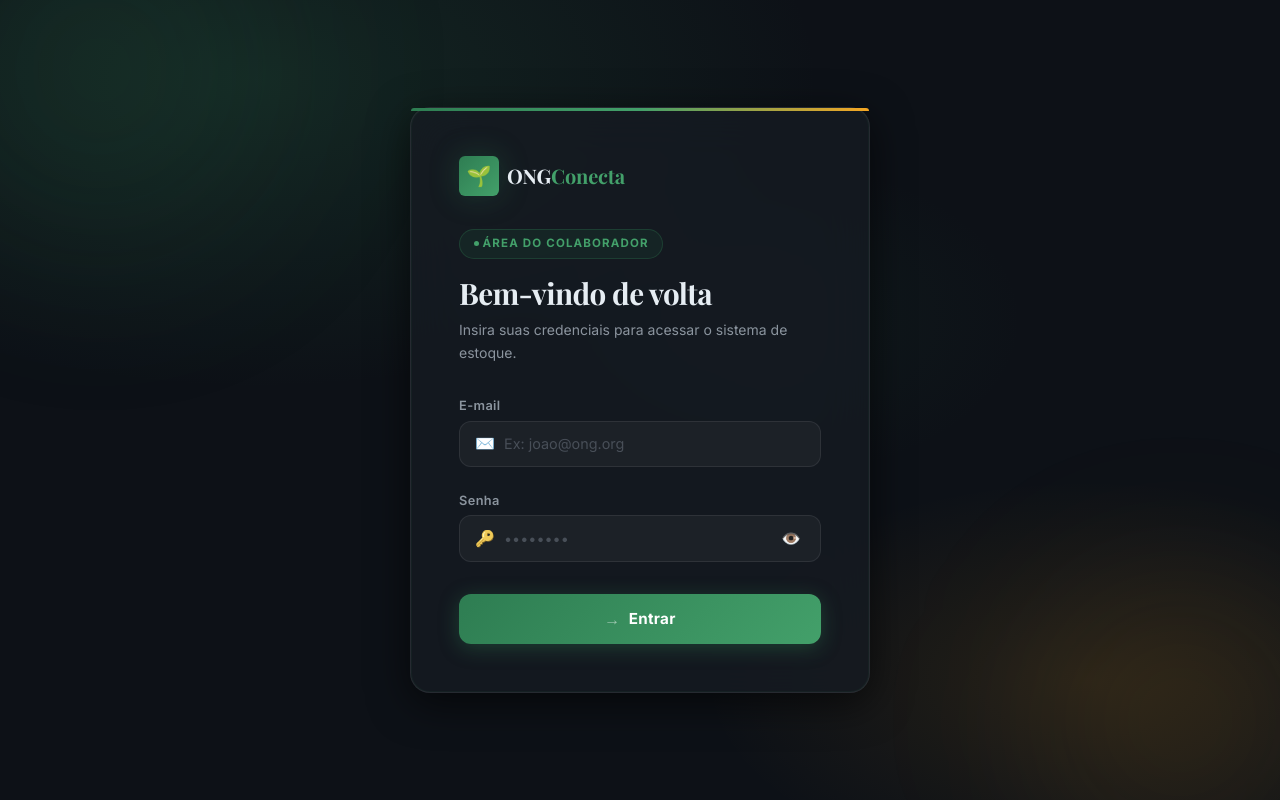
Test case: App — fluxo de navegação › navega para o StockOverview após login bem-sucedido
The width and height of the screenshot is (1280, 800).
Step 1. Type "admin@ong.org" into the field labelled "E-mail" → [640, 444], box 459,421 -> 821,467
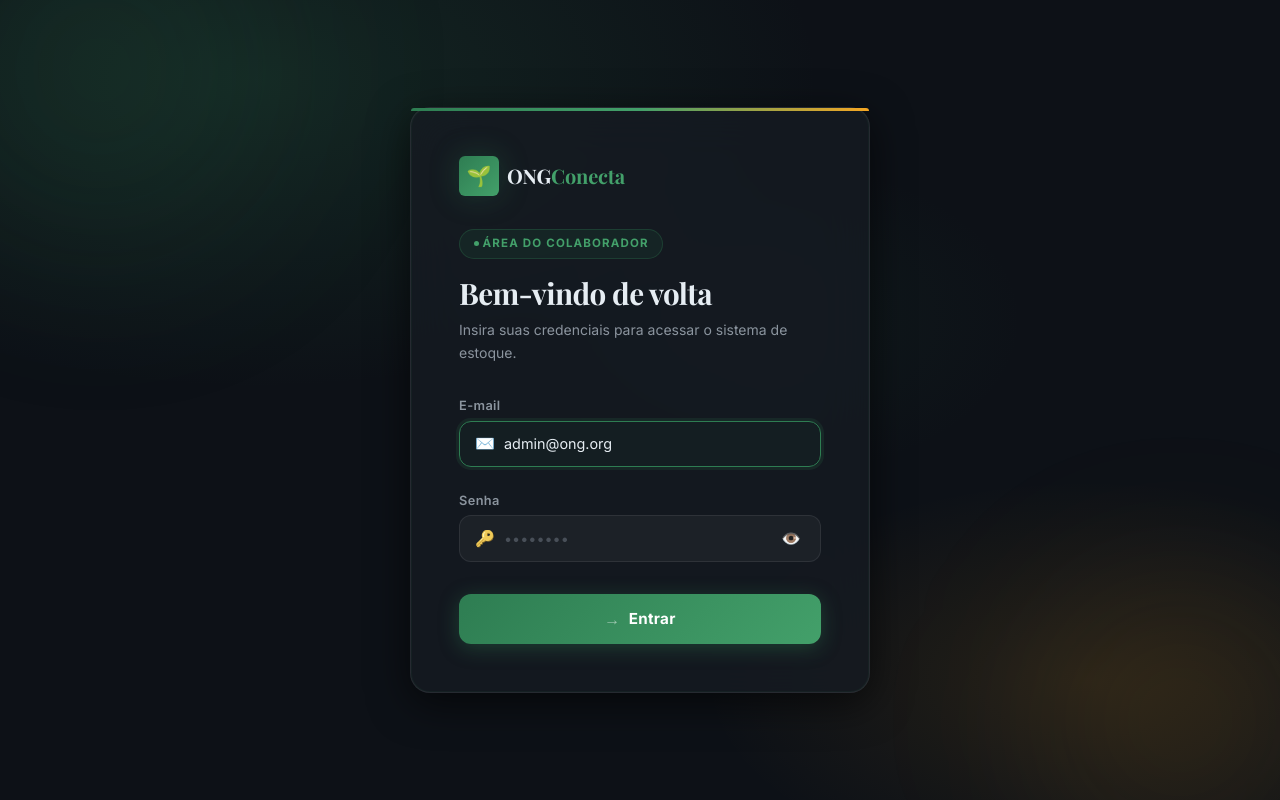
Step 2. Type "senha123" into the password field with id "login-password" → [640, 538], box 459,515 -> 821,562
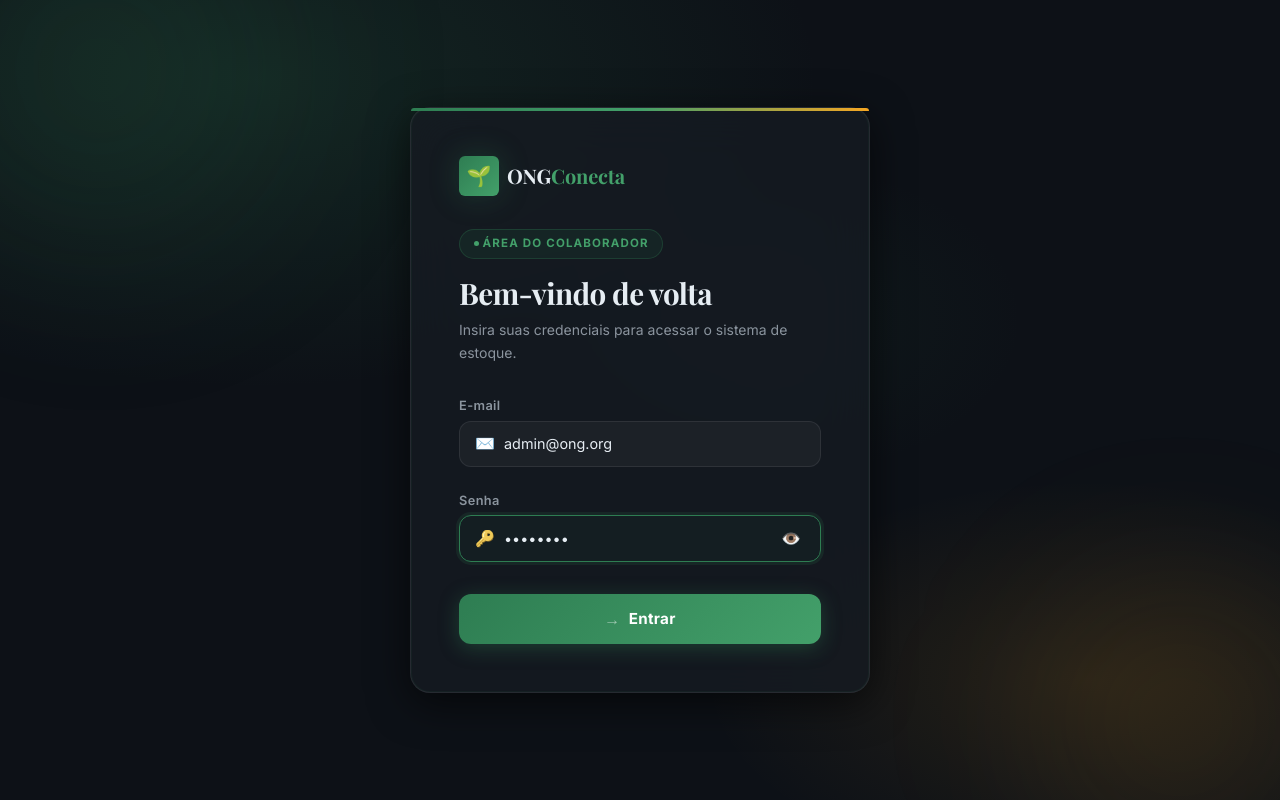
Step 3. Click the button "→ Entrar" → [640, 619], box 459,594 -> 821,644
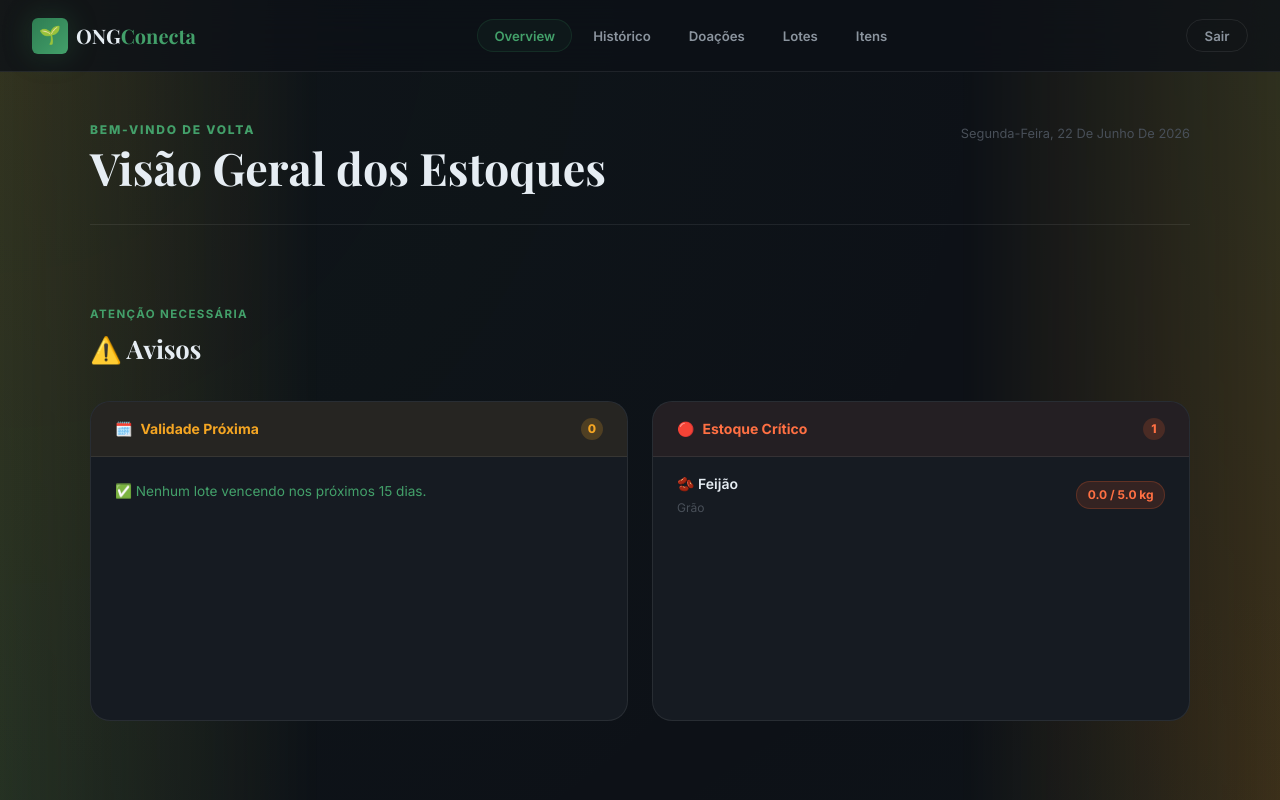
Check: the heading "Visão Geral dos Estoques" is shown, box 90,143 -> 606,192
